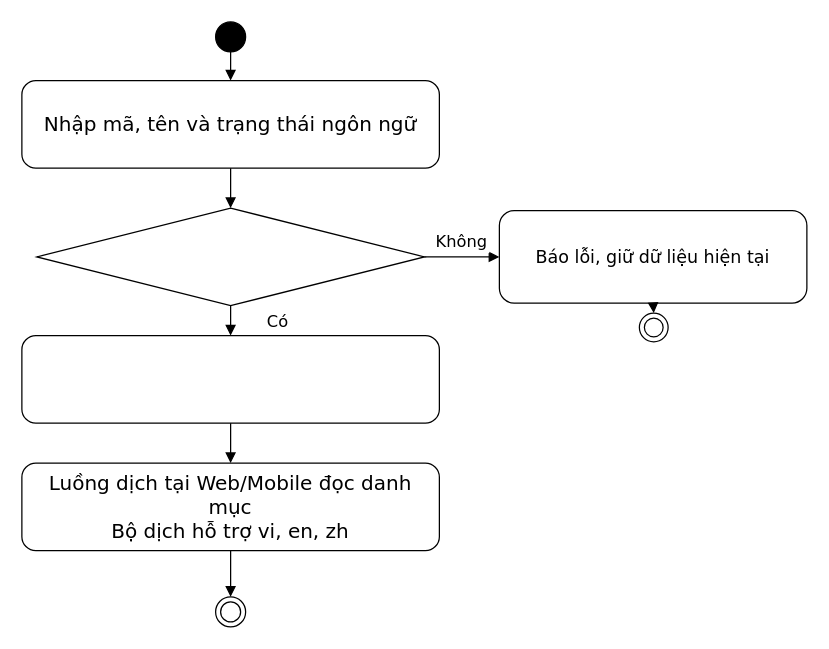
Some shapes in this 829 by 649 pixel diagram are drawn without their labels. Each missing label, with the box of its shape:
Quyền Admin, mã và trạng thái hợp lệ?: (36, 207, 424, 306)
Thêm hoặc cập nhật bảng NgonNgu: (21, 334, 439, 423)
